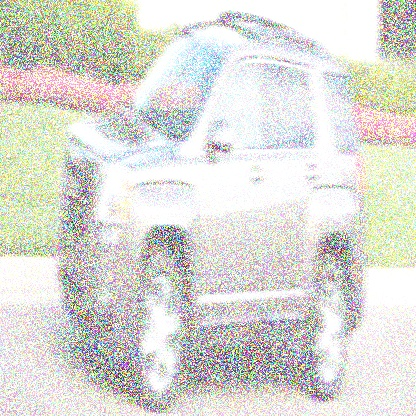Vehicle: (56, 8, 368, 410)
